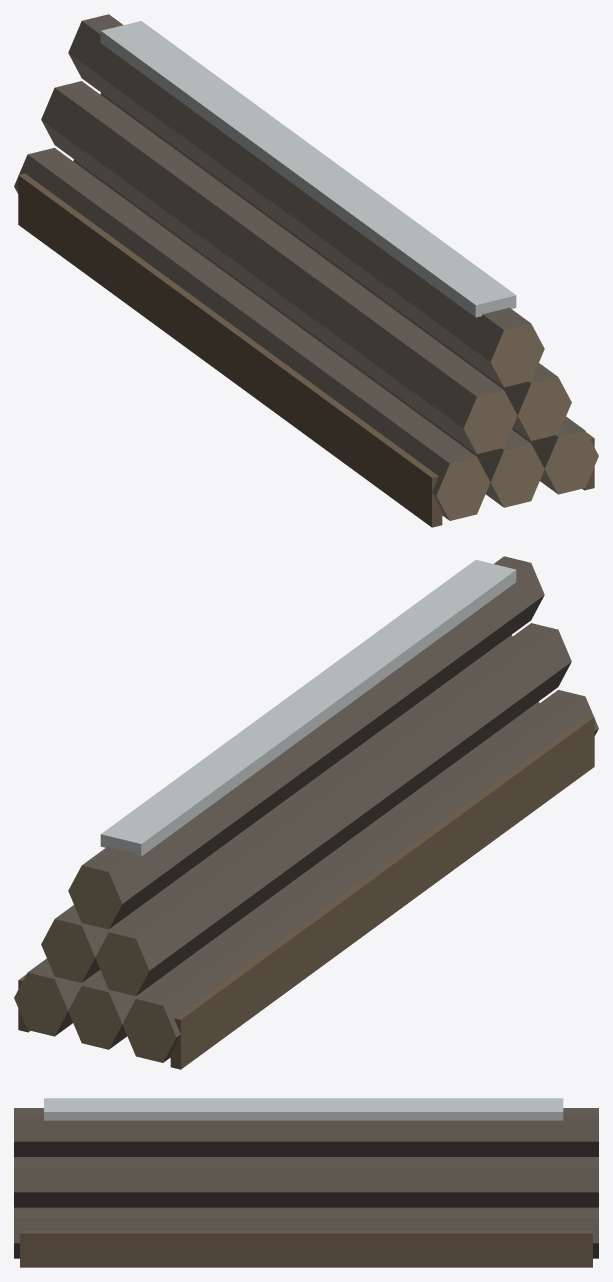
The model's file is log_stack_high.glb.
3 renders of one model, top to bottom at view 1: azimuth 30°, elevation 25°; view 2: azimuth 150°, elevation 25°; view 3: azimuth 270°, elevation 25°, orthographic. The views are drawn at different scales.
Parts seen in each view (by area): view 1: log_stack_high; view 2: log_stack_high; view 3: log_stack_high.
Boxes of the visible parts, <box> form: log_stack_high: <box>14,14,598,527</box>; log_stack_high: <box>14,556,598,1069</box>; log_stack_high: <box>14,1098,598,1267</box>.
Size of the model in its own units: 1.92 by 2.2 by 8.64.
